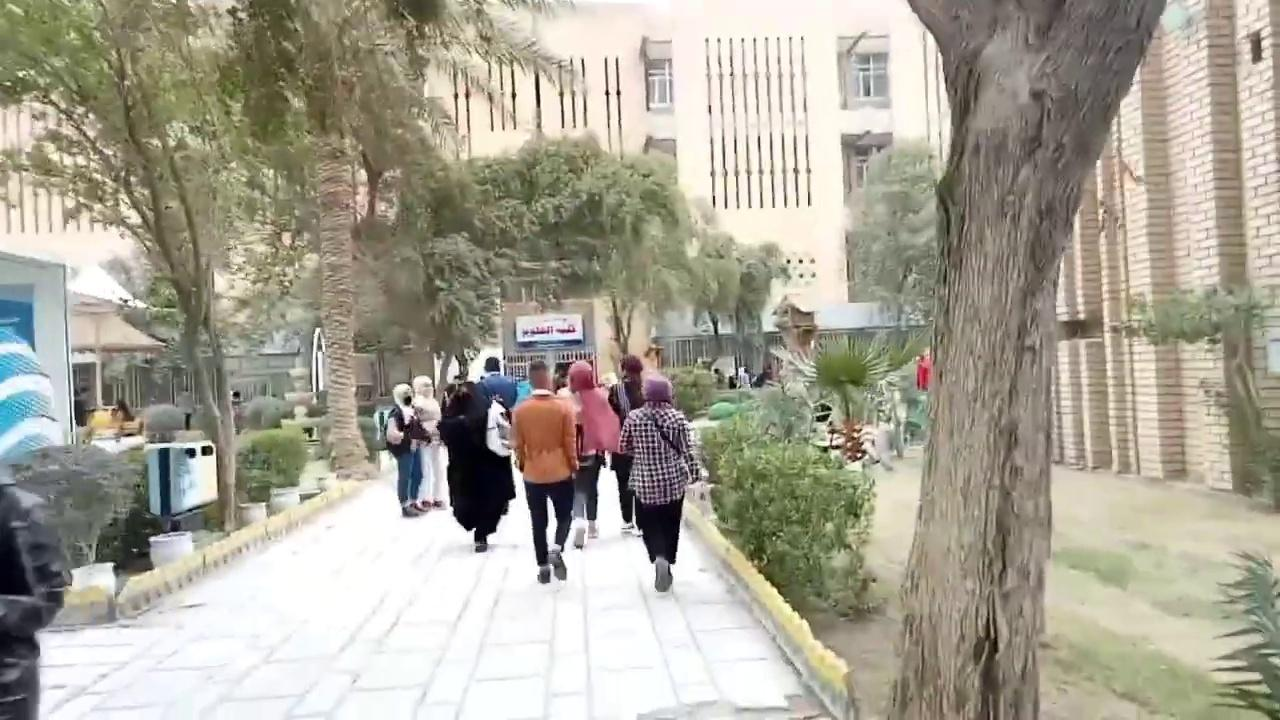person: (0, 327, 72, 718), (618, 376, 701, 592), (428, 376, 518, 556), (509, 360, 579, 583), (376, 373, 428, 528), (916, 347, 931, 391)
tree: (884, 0, 1167, 718), (217, 0, 579, 475), (0, 0, 310, 533), (455, 128, 739, 381), (350, 151, 504, 403), (1119, 280, 1278, 507), (844, 136, 946, 352), (785, 330, 922, 462), (691, 231, 786, 386), (1208, 548, 1279, 719)
